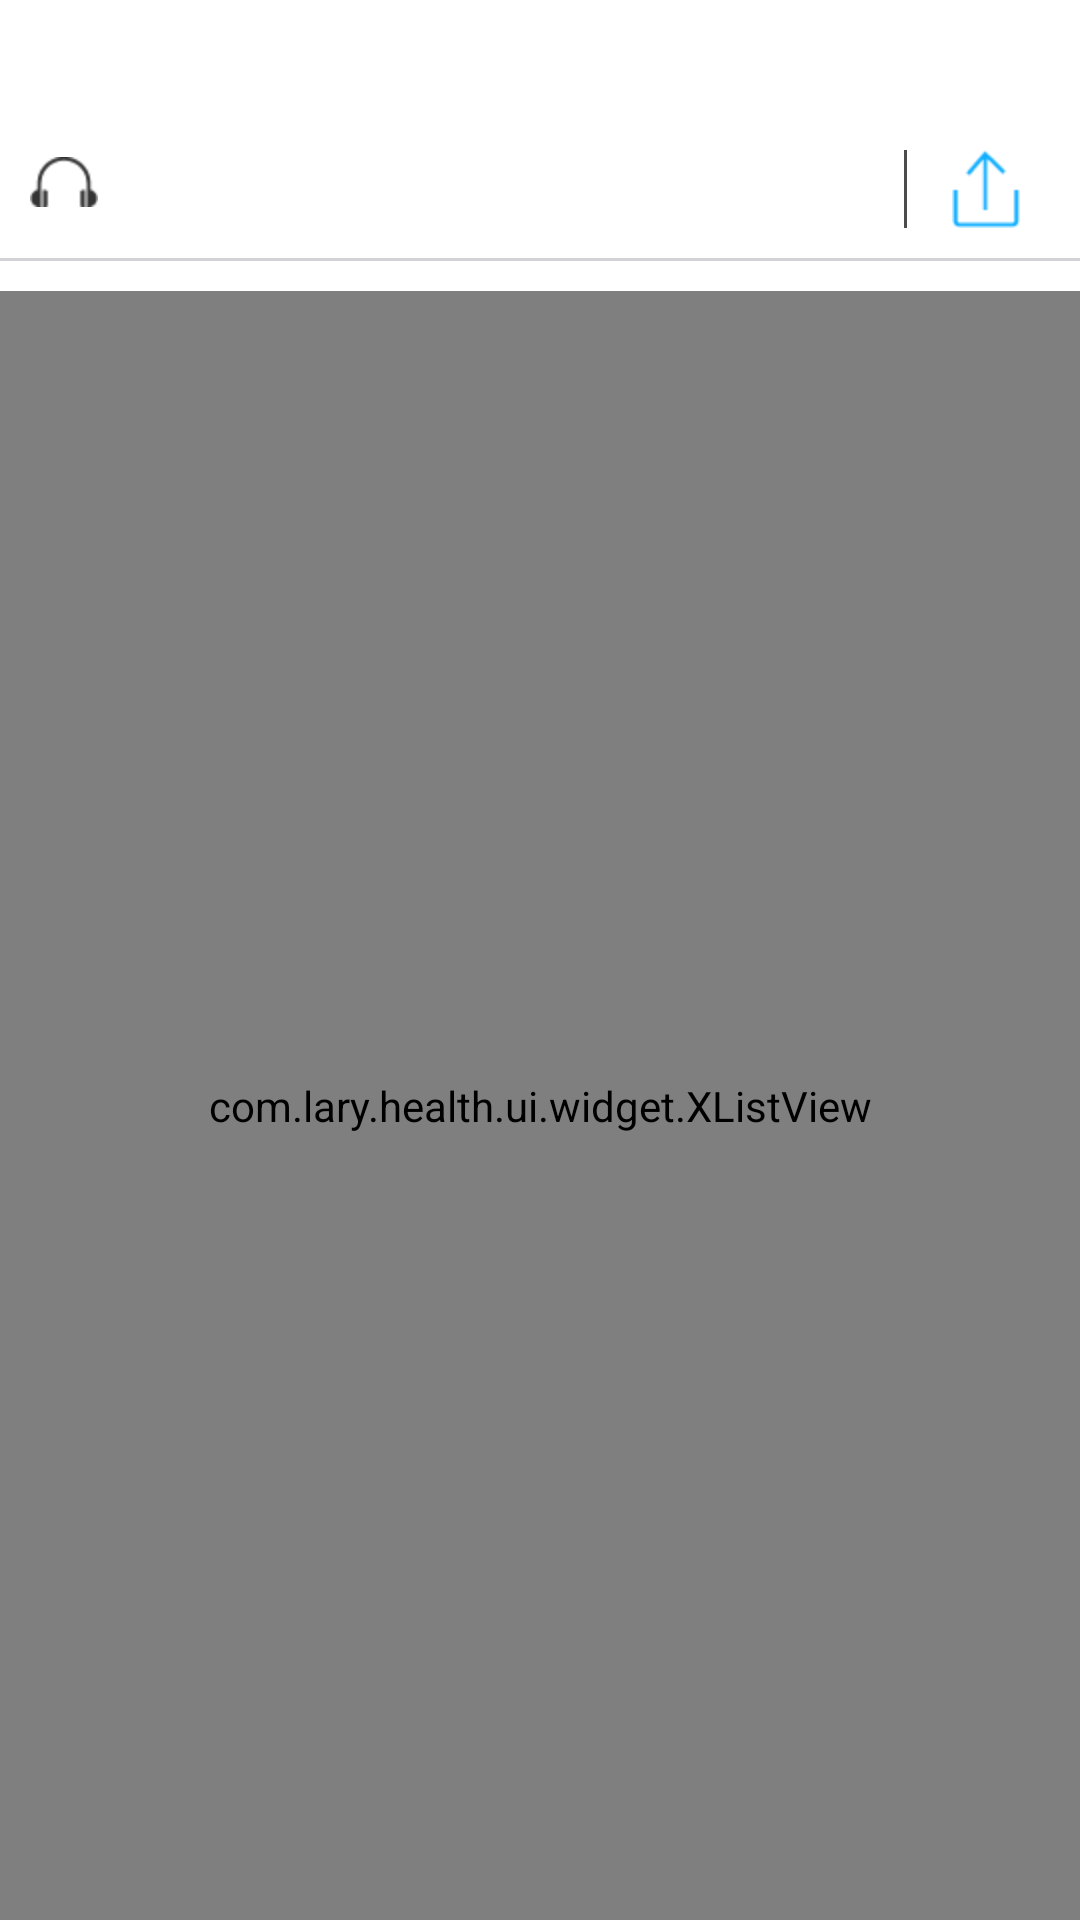

Icons on this 1080w x 1920h Android screen, each with the point to tap as (x,y):
music upload: (986,189)
